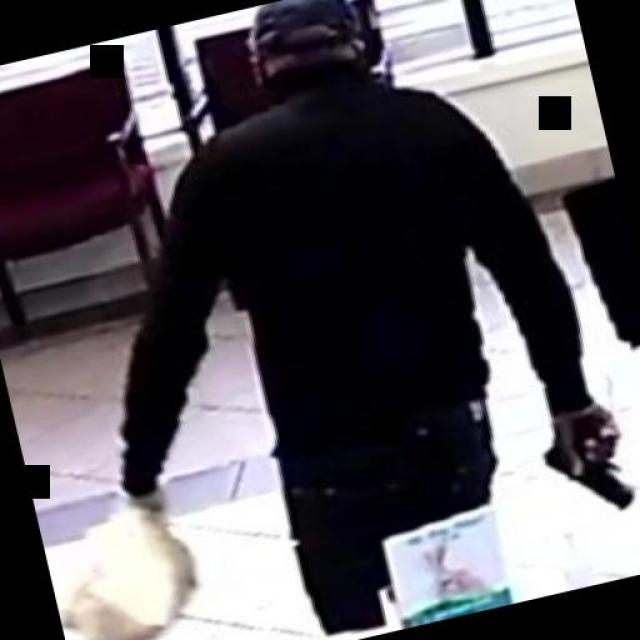gun: (522, 398, 640, 528)
